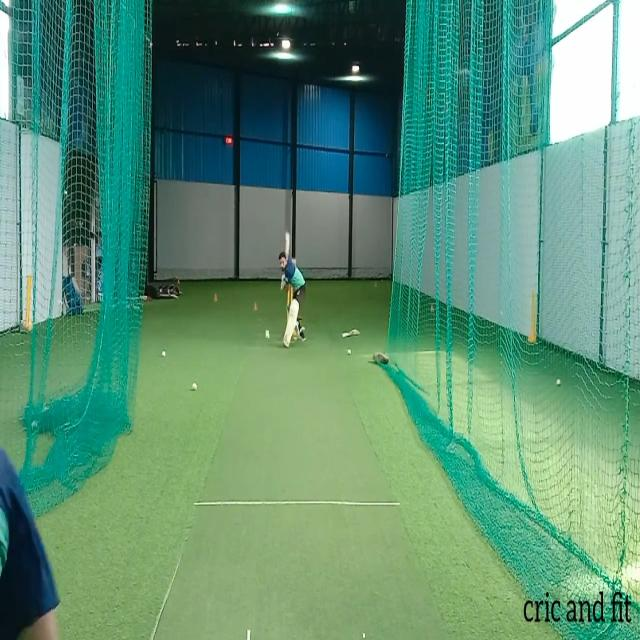batsman: (278, 230, 307, 350)
